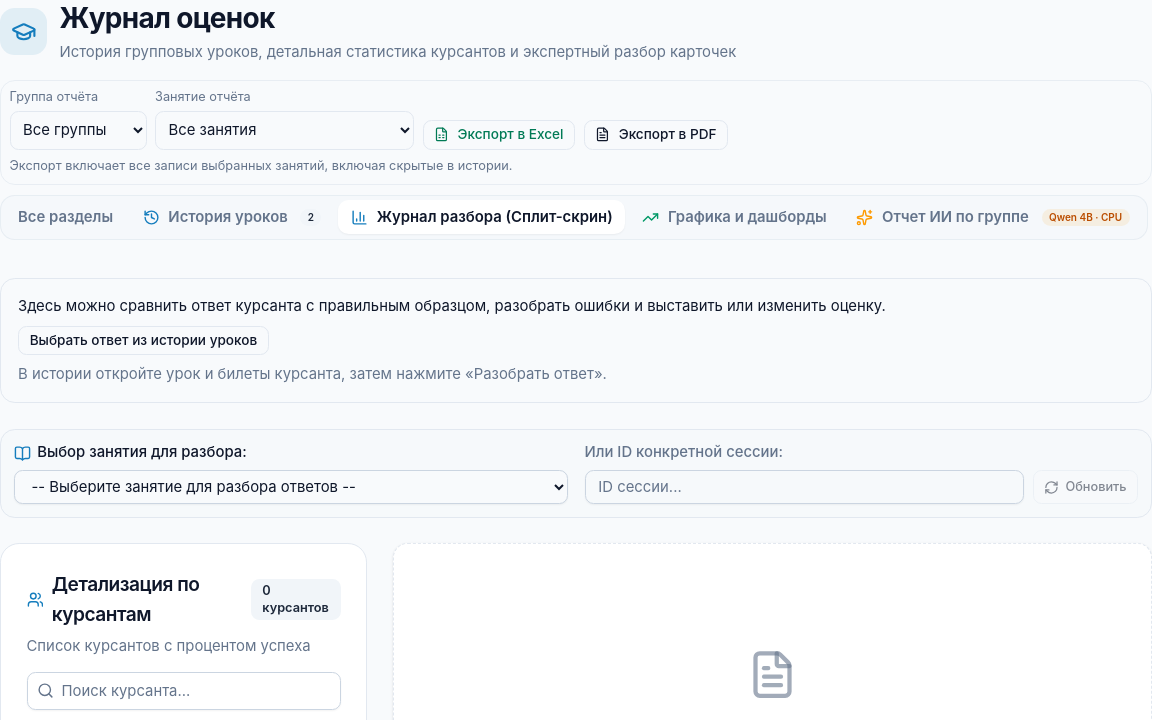
Test: FIX-08: Split screen lesson selection and cadets roster › ignores a late response from an earlier lesson selection
The width and height of the screenshot is (1152, 720).
Start loading lesson-alpha (slow)
Step 1. Select "Группа 101-П — Занятие (Завершён)" in the dropdown named "выбор урока" → (291, 487), box x1=14 y1=470 x2=568 y2=504
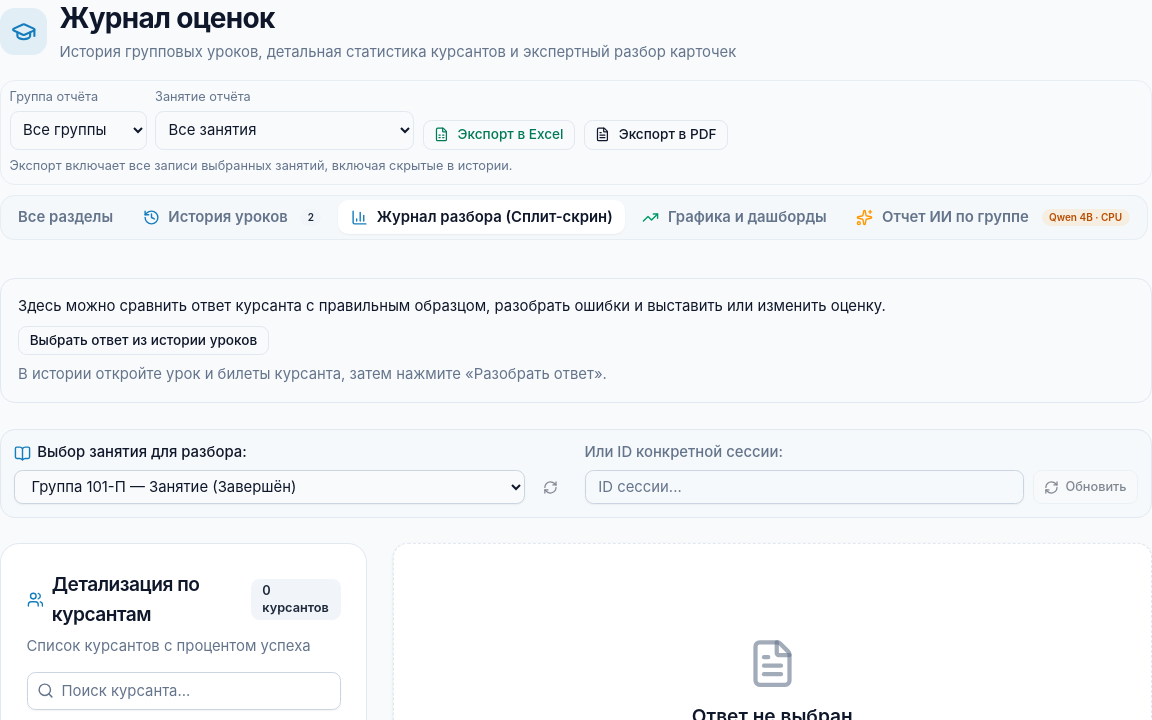
Quickly switch to lesson-empty
Step 2. Select "Группа 102-П — Занятие (Ожидание)" in the dropdown named "выбор урока" → (270, 487), box x1=14 y1=470 x2=525 y2=504
(page scrolled)
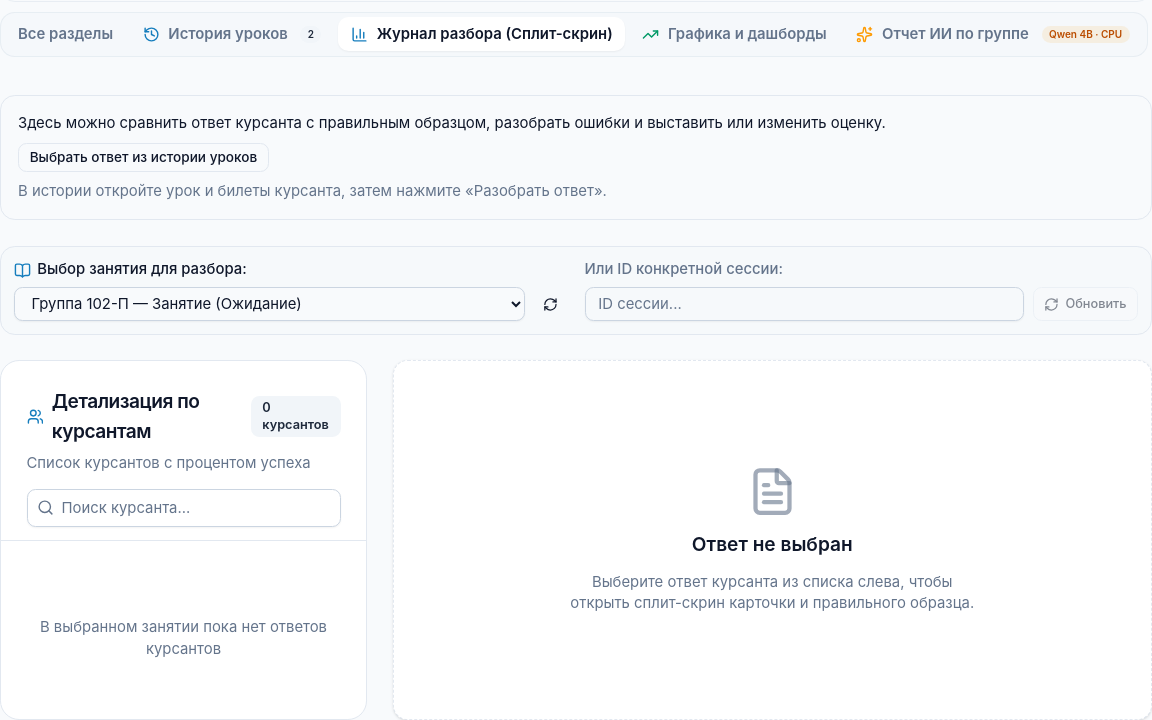
Expected: the text "В выбранном занятии пока нет ответов курсантов" is shown, x1=40 y1=618 x2=327 y2=658
